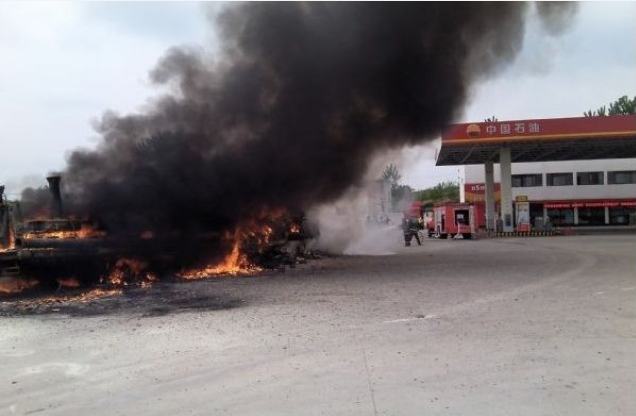喷灌水雾: (342, 215, 404, 256)
